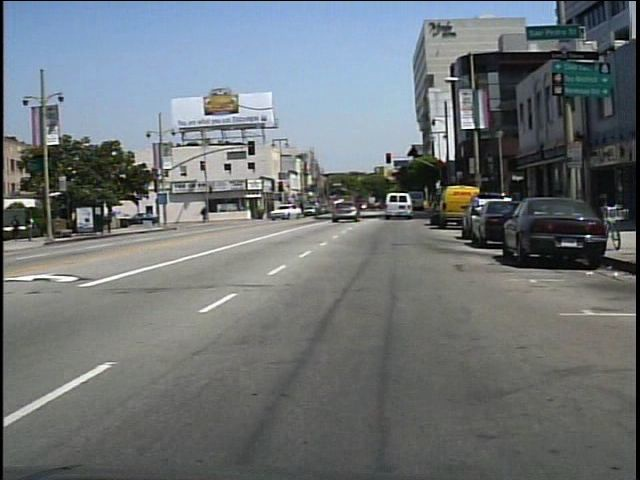person: (26, 213, 43, 246), (311, 196, 329, 225), (14, 212, 28, 243), (203, 205, 212, 225)
